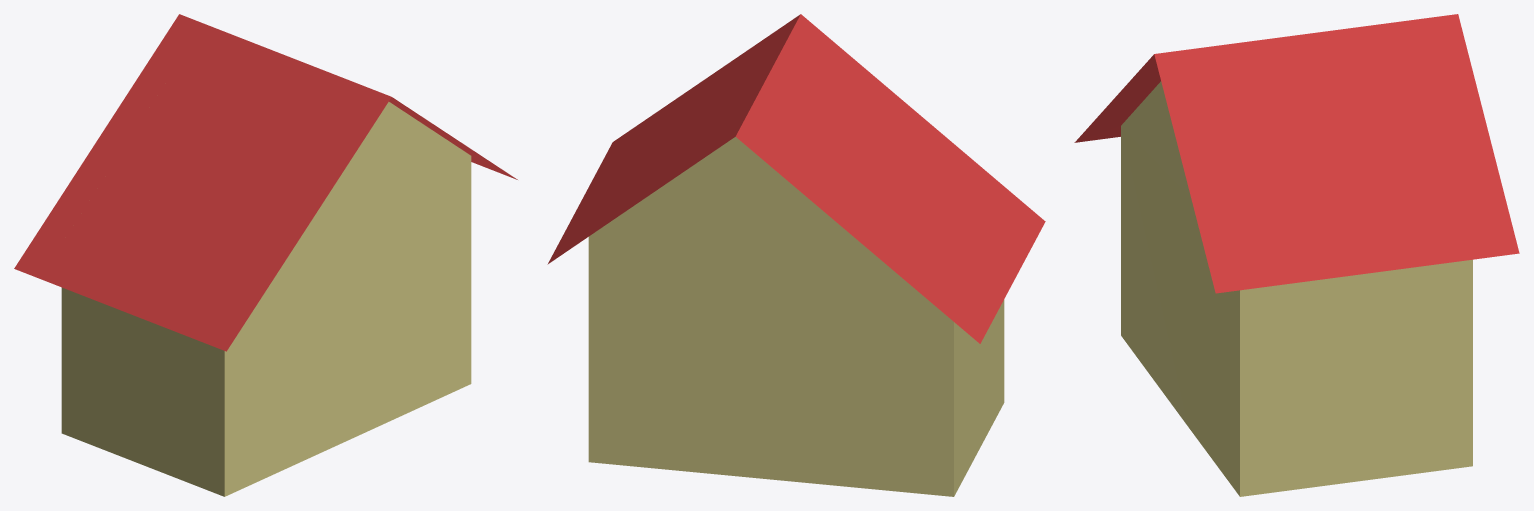
3 views of the same model, side by side, from view 1: azimuth 30°, elevation 25°; view 2: azimuth 150°, elevation 25°; view 3: azimuth 270°, elevation 25° (orthographic). The views are drawn at different scales.
Bounding box in the file's own units: 14.77 × 12 × 11.28.
